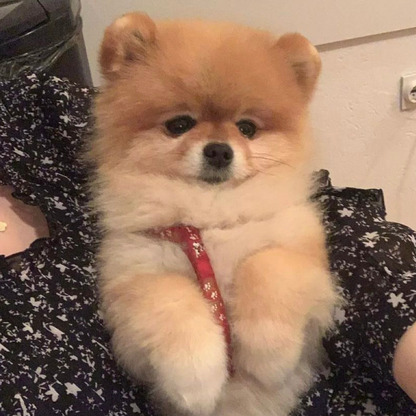Pomeranian: (68, 21, 354, 402)
